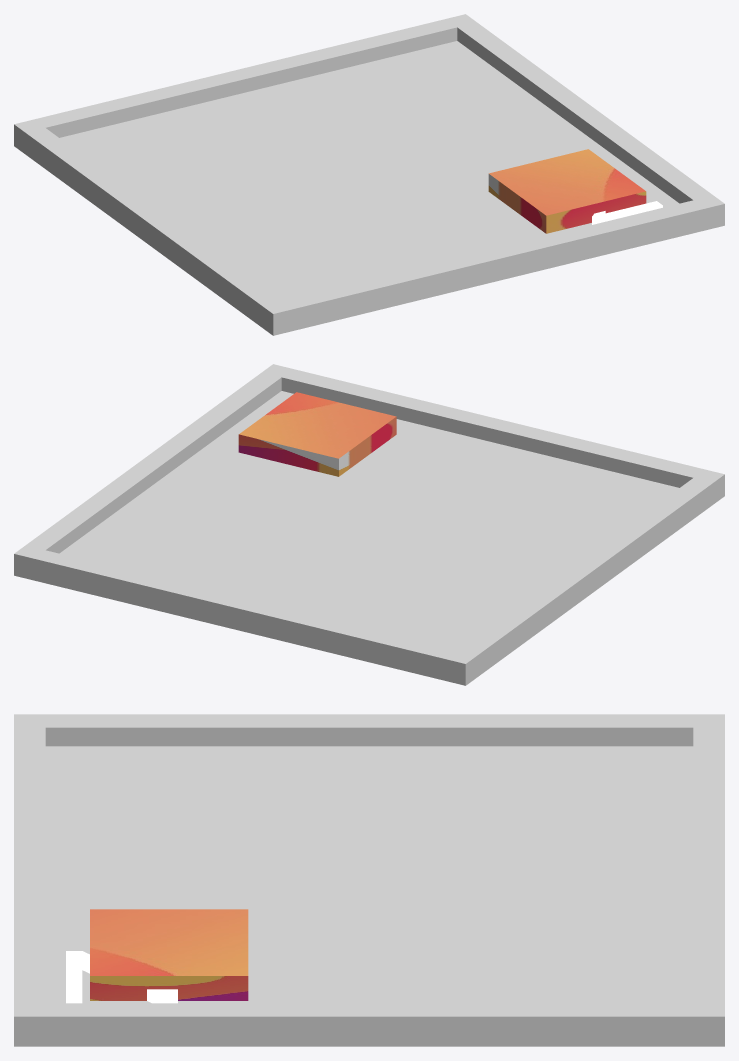
Rendered from zpuzzle_blank_glb.glb.
3 views of the same model, one above another, from view 1: azimuth 30°, elevation 25°; view 2: azimuth 150°, elevation 25°; view 3: azimuth 270°, elevation 25° (orthographic). The views are drawn at different scales.
Visible parts, largest first — view 1: bgplate, 1; view 2: bgplate, 1; view 3: bgplate, 1.
Part boxes in pixels (x1,y1,x2,y2): bgplate: (14,14,724,335); 1: (488,149,646,233); bgplate: (14,364,724,685); 1: (238,392,396,476); bgplate: (14,714,724,1046); 1: (90,909,248,1000).
Bounding box in the file's own units: 3.47 × 0.1948 × 3.45.
2 materials, 1 textured.
